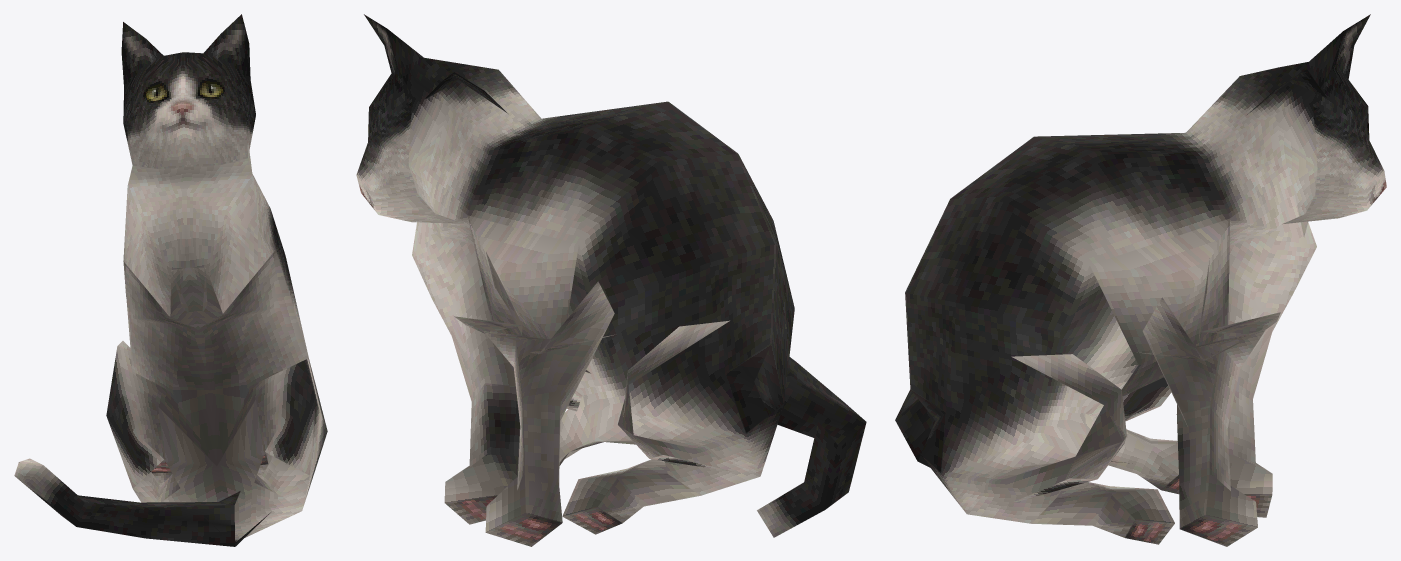
Rendered from ps2_save-icons_wayofthesamurai-playstationthebestrerelease.glb.
The picture shows the model from 3 angles, left to right: view 1: azimuth 30°, elevation 25°; view 2: azimuth 150°, elevation 25°; view 3: azimuth 270°, elevation 25°; orthographic projection. The views are drawn at different scales.
Parts seen in each view (by area): view 1: samurai.ico; view 2: samurai.ico; view 3: samurai.ico.
Boxes of the visible parts, x1,y1,x2,y2 form: samurai.ico: [14, 14, 327, 546]; samurai.ico: [356, 14, 866, 546]; samurai.ico: [895, 14, 1386, 546].
Bounding box in the file's own units: 3.44 × 4.56 × 4.09.
1 material, 1 textured.
